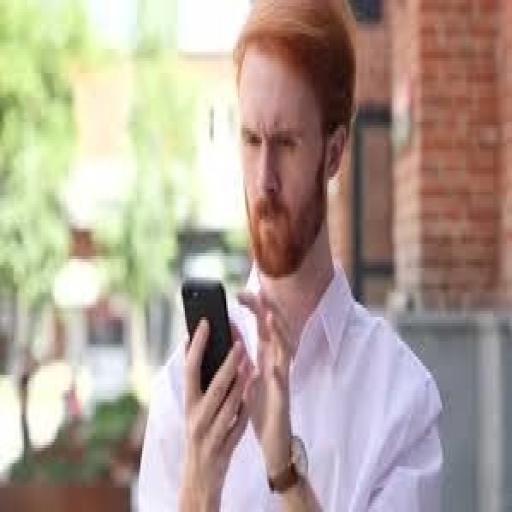texting: (133, 0, 447, 506)
